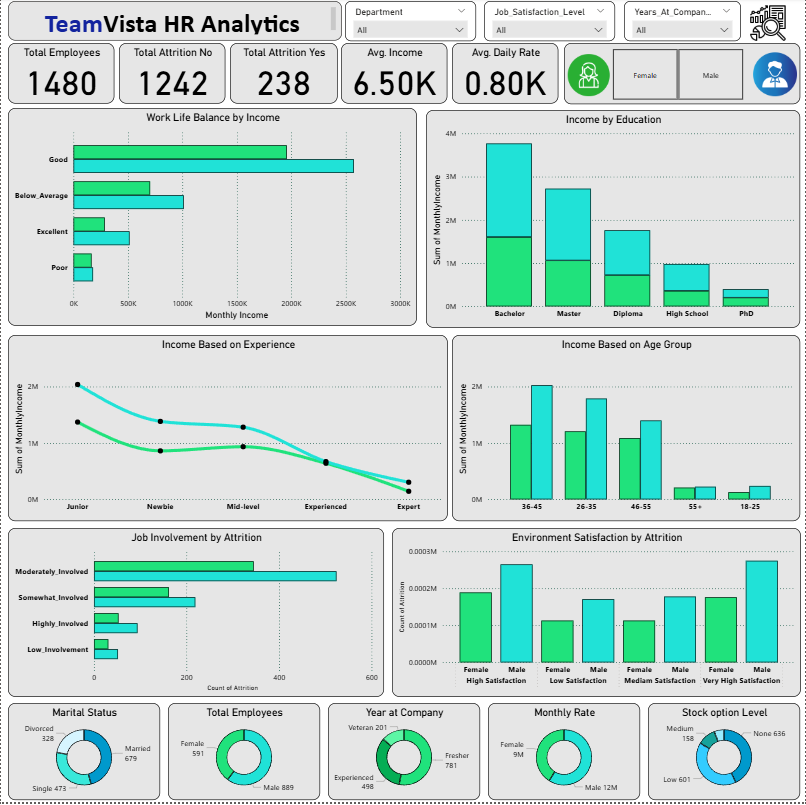

The page's visual inventory and layout, read from the dashboard file:
{"tool":"powerbi","page":{"name":"HR_Analysis_Gender_Wise","canvas":[1300,1300],"ordinal":0},"visuals":[{"type":"textbox","box":[11.4,5.2,540.3,64.4],"z":0},{"type":"card","title":"Total Attrition Yes","fields":{"Values":["Hr_data.Attrition Count Yes"]},"box":[369.9,72.7,173.5,97.7],"z":1000},{"type":"card","title":"Total Attrition No","fields":{"Values":["Hr_data.Attrition Count No"]},"box":[190.6,72.5,172.5,97.7],"z":2000},{"type":"card","title":"Total Employees","fields":{"Values":["Hr_data.Total Employees"]},"box":[11.4,72.5,172.5,97.7],"z":3000},{"type":"card","title":"Avg. Income","fields":{"Values":["Hr_data.Average Income"]},"box":[550.1,72.5,172.5,97.7],"z":4000},{"type":"card","title":"Avg. Daily Rate","fields":{"Values":["Avg(Hr_data.DailyRate)"]},"box":[729.4,72.5,172.5,97.7],"z":5000},{"type":"clusteredBarChart","title":"Work Life Balance by Income","fields":{"Category":["Hr_data.Work_life_balance_level"],"Y":["Sum(Hr_data.MonthlyIncome)"],"Series":["Hr_data.Gender"]},"box":[11.3,177.9,661.3,352.5],"z":6000},{"type":"columnChart","title":"Income by Education","fields":{"Category":["Hr_data.Education_Level"],"Y":["Sum(Hr_data.MonthlyIncome)"],"Series":["Hr_data.Gender"]},"box":[687.2,181.1,604.7,352.5],"z":7000},{"type":"lineChart","title":"Income Based on Experience ","fields":{"Category":["Hr_data.Total_Working_Years_Group"],"Y":["Sum(Hr_data.MonthlyIncome)"],"Series":["Hr_data.Gender"]},"box":[11.3,544.9,711.4,300.7],"z":8000},{"type":"clusteredBarChart","title":"Job Involvement by Attrition","fields":{"Category":["Hr_data.Job_involment_Level"],"Y":["CountNonNull(Hr_data.Attrition)"],"Series":["Hr_data.Gender"]},"box":[11.3,857,608,273.3],"z":9000},{"type":"donutChart","title":"Marital Status ","fields":{"Category":["Hr_data.MaritalStatus"],"Y":["CountNonNull(Hr_data.Gender)"]},"box":[11.3,1139.3,245.8,156.8],"z":10000},{"type":"donutChart","title":"Year at Company ","fields":{"Category":["Hr_data.Years_At_Company_group"],"Y":["CountNonNull(Hr_data.Gender)"]},"box":[528.7,1139.3,245.8,156.8],"z":11000},{"type":"donutChart","title":"Stock option Level ","fields":{"Category":["Hr_data.Stock_option_level"],"Y":["CountNonNull(Hr_data.Gender)"]},"box":[1046.1,1139.3,245.8,156.8],"z":12000},{"type":"donutChart","title":"Monthly Rate","fields":{"Category":["Hr_data.Gender"],"Y":["Sum(Hr_data.MonthlyRate)"]},"box":[787.4,1139.3,245.8,156.8],"z":13000},{"type":"donutChart","title":"Total Employees ","fields":{"Category":["Hr_data.Gender"],"Y":["Hr_data.Total Employees"]},"box":[270,1139.3,245.8,156.8],"z":14000},{"type":"columnChart","title":"Environment Satisfaction by Attrition","fields":{"Category":["Hr_data.Env_Satisfaction_Level","Hr_data.Gender"],"Y":["CountNonNull(Hr_data.Attrition)"]},"box":[632.2,857,661.3,273.3],"z":15000},{"type":"clusteredColumnChart","title":"Income Based on Age Group","fields":{"Y":["Sum(Hr_data.MonthlyIncome)"],"Category":["Hr_data.AgeGroup"],"Series":["Hr_data.Gender"]},"box":[729.2,544.9,562.7,300.7],"z":16000},{"type":"textbox","box":[910.3,72.8,381.6,98.6],"z":17000},{"type":"slicer","fields":{"Values":["Hr_data.Gender"]},"box":[963.7,76,260.3,95.4],"z":18000},{"type":"slicer","fields":{"Values":["Hr_data.Department"]},"box":[556.2,4.9,211.8,64.7],"z":19000},{"type":"slicer","fields":{"Values":["Hr_data.Years_At_Company_group"]},"box":[1007.3,4.9,189.2,64.7],"z":20000},{"type":"slicer","fields":{"Values":["Hr_data.Job_Satisfaction_Level"]},"box":[781,4.9,211.8,64.7],"z":21000},{"type":"image","box":[1211.1,80.8,80.8,85.7],"z":22000},{"type":"image","box":[910.3,85.7,79.2,77.6],"z":23000},{"type":"image","box":[1204.6,0,71.1,80.8],"z":24000}]}

Visuals, with their boxes in screenshot pixels (x1, y1, x2, y2), scaled from the page's 1300x1300 canvas onto the 806x805 screenshot:
textbox: bbox=(7, 3, 342, 43)
"Total Attrition Yes" card: bbox=(229, 45, 337, 106)
"Total Attrition No" card: bbox=(118, 45, 225, 105)
"Total Employees" card: bbox=(7, 45, 114, 105)
"Avg. Income" card: bbox=(341, 45, 448, 105)
"Avg. Daily Rate" card: bbox=(452, 45, 559, 105)
"Work Life Balance by Income" clusteredBarChart: bbox=(7, 110, 417, 328)
"Income by Education" columnChart: bbox=(426, 112, 801, 330)
"Income Based on Experience " lineChart: bbox=(7, 337, 448, 524)
"Job Involvement by Attrition" clusteredBarChart: bbox=(7, 531, 384, 700)
"Marital Status " donutChart: bbox=(7, 705, 159, 803)
"Year at Company " donutChart: bbox=(328, 705, 480, 803)
"Stock option Level " donutChart: bbox=(649, 705, 801, 803)
"Monthly Rate" donutChart: bbox=(488, 705, 641, 803)
"Total Employees " donutChart: bbox=(167, 705, 320, 803)
"Environment Satisfaction by Attrition" columnChart: bbox=(392, 531, 802, 700)
"Income Based on Age Group" clusteredColumnChart: bbox=(452, 337, 801, 524)
textbox: bbox=(564, 45, 801, 106)
slicer - Hr_data.Gender: bbox=(597, 47, 759, 106)
slicer - Hr_data.Department: bbox=(345, 3, 476, 43)
slicer - Hr_data.Years_At_Company_group: bbox=(625, 3, 742, 43)
slicer - Hr_data.Job_Satisfaction_Level: bbox=(484, 3, 616, 43)
image: bbox=(751, 50, 801, 103)
image: bbox=(564, 53, 613, 101)
image: bbox=(747, 0, 791, 50)
